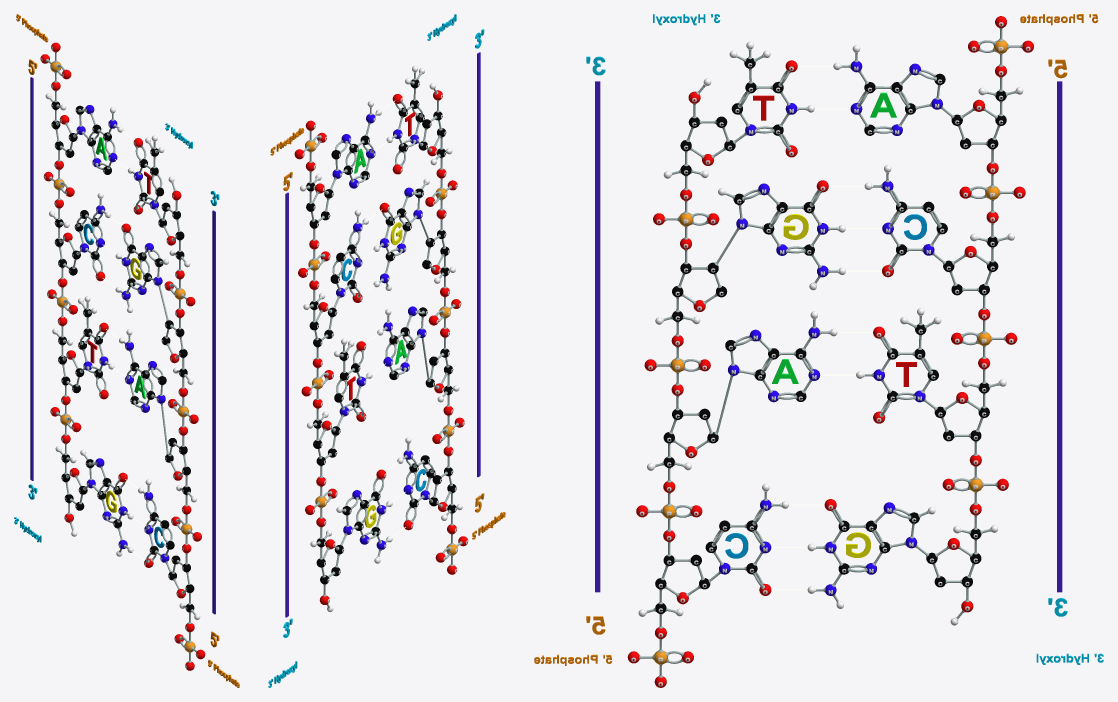
The model's file is Lop10_Nucleic acid_Tab1_dna_double_helix__base_pairing.glb.
3 views of the same model, side by side, from view 1: azimuth 30°, elevation 25°; view 2: azimuth 150°, elevation 25°; view 3: azimuth 270°, elevation 25° (orthographic). The views are drawn at different scales.
Parts seen in each view (by area): view 1: Rectangle002, Rectangle001; view 2: Rectangle001, Rectangle002; view 3: Rectangle001, Rectangle002.
Boxes of the visible parts, left/top/right/bottom form: Rectangle002: left=212, top=210, right=215, bottom=614; Rectangle001: left=30, top=77, right=33, bottom=480; Rectangle001: left=285, top=192, right=288, bottom=617; Rectangle002: left=477, top=52, right=480, bottom=477; Rectangle001: left=1057, top=81, right=1062, bottom=592; Rectangle002: left=595, top=81, right=600, bottom=592.
Size of the model in its own units: 0.0384 by 1.96 by 1.5.
14 materials, 5 textured.
